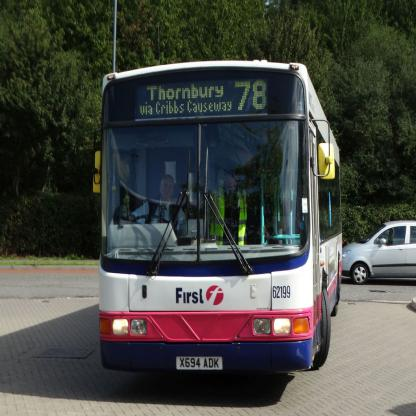Bus: (91, 60, 342, 374)
